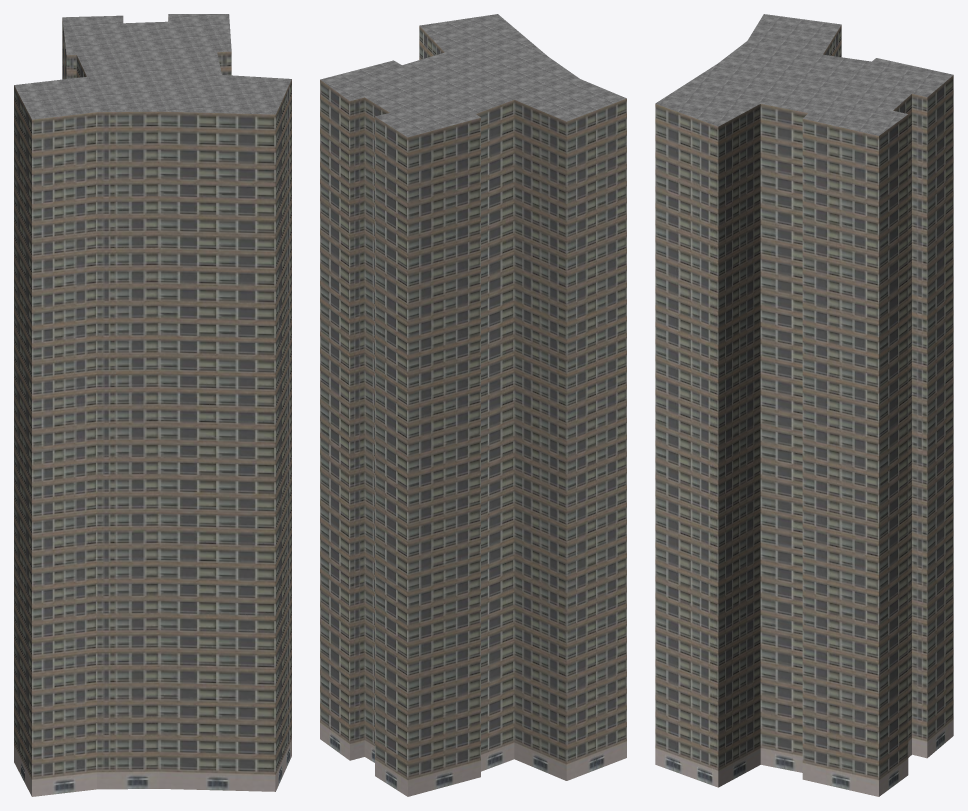
The picture shows the model from 3 angles, left to right: view 1: azimuth 30°, elevation 25°; view 2: azimuth 150°, elevation 25°; view 3: azimuth 270°, elevation 25°; orthographic projection. The views are drawn at different scales.
Parts seen in each view (by area): view 1: BuildingMaster_2008193389134461791000000000_0, BuildingMaster_2008193389134461791000000000_1; view 2: BuildingMaster_2008193389134461791000000000_0, BuildingMaster_2008193389134461791000000000_1; view 3: BuildingMaster_2008193389134461791000000000_0, BuildingMaster_2008193389134461791000000000_1.
Part boxes in pixels (bbox=[...]): BuildingMaster_2008193389134461791000000000_0: bbox=[14, 17, 291, 796]; BuildingMaster_2008193389134461791000000000_1: bbox=[14, 14, 291, 119]; BuildingMaster_2008193389134461791000000000_0: bbox=[320, 26, 626, 796]; BuildingMaster_2008193389134461791000000000_1: bbox=[320, 14, 626, 137]; BuildingMaster_2008193389134461791000000000_0: bbox=[655, 25, 953, 796]; BuildingMaster_2008193389134461791000000000_1: bbox=[655, 14, 953, 135].
Size of the model in its own units: 54 by 136 by 55.88.
2 materials, 2 textured.
